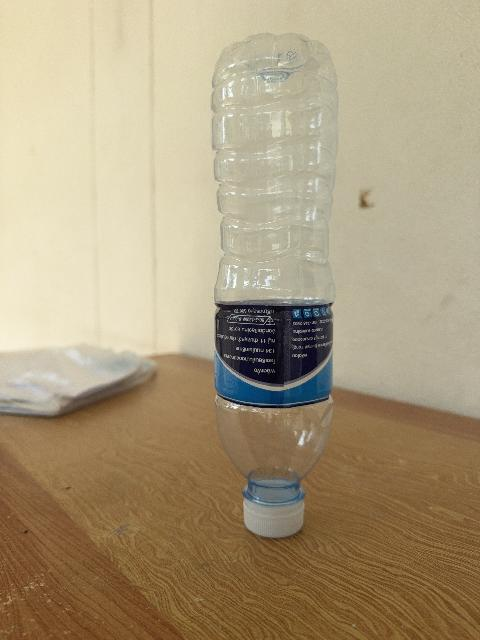bottle: (212, 34, 337, 537)
